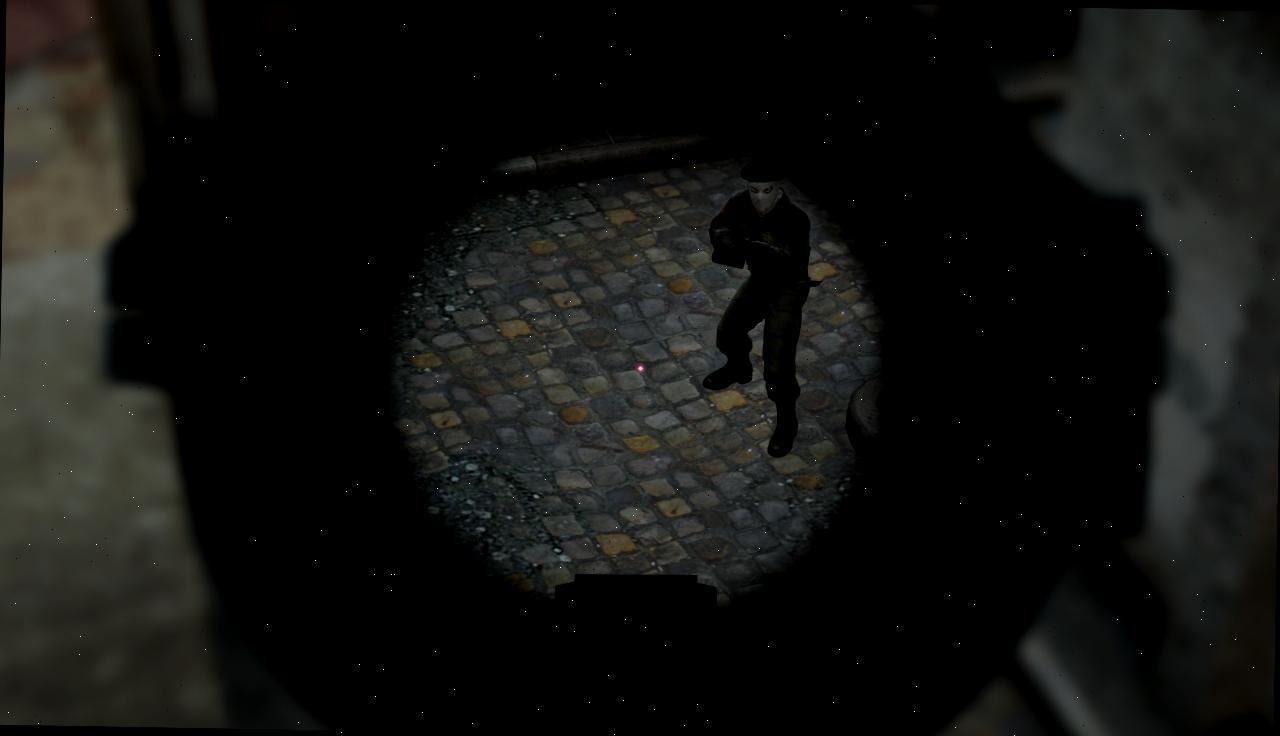tt: (710, 156, 806, 448)
tthead: (745, 158, 782, 213)
